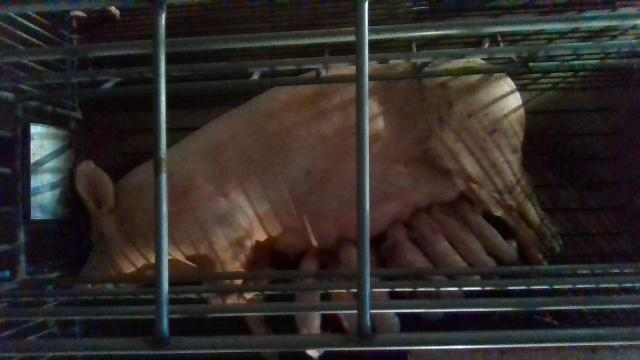piglet: (383, 222, 463, 299), (342, 241, 399, 333), (408, 209, 481, 280), (428, 204, 497, 267), (453, 199, 518, 265), (295, 248, 325, 360), (326, 260, 357, 333)
sow-sleep-lactate: (74, 59, 563, 360)
